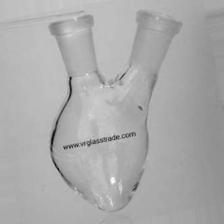Pear shaped flask: (35, 4, 187, 208)
